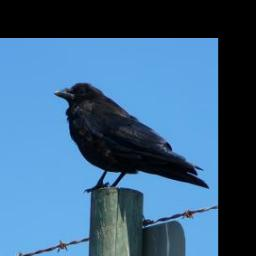Crow: (51, 81, 211, 194)
